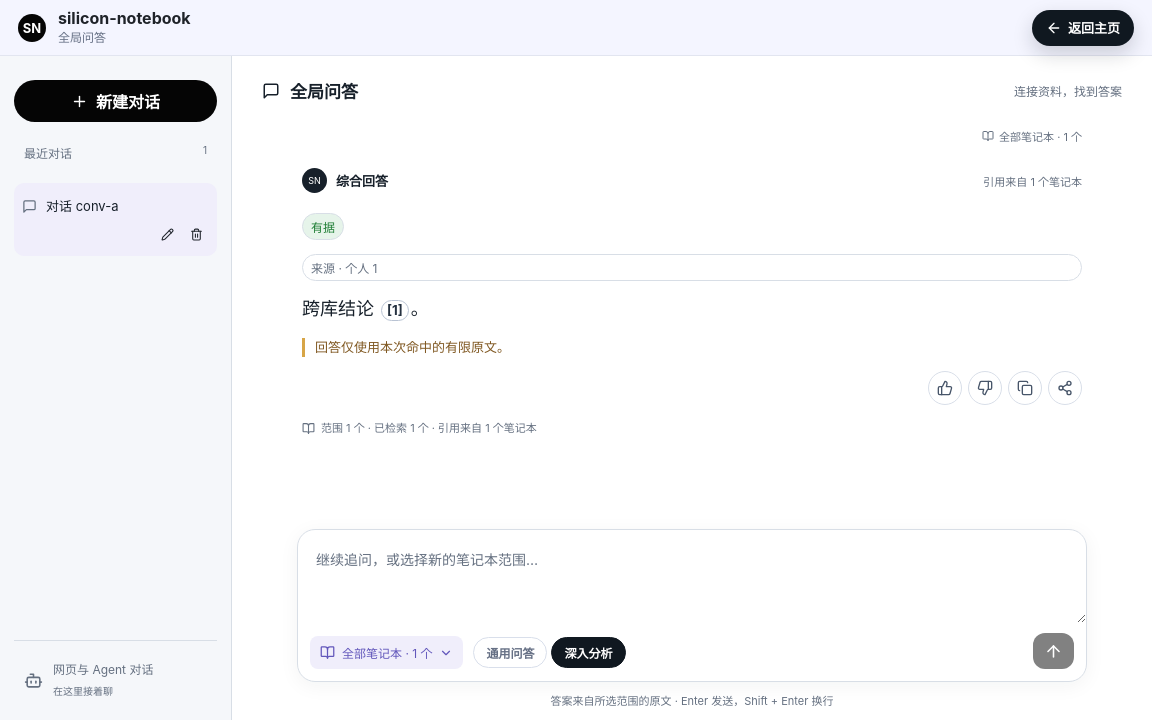
Test case: 超长会话已分享到更早一轮：链接此刻的确数与「更新到这一条」之后的确数分开说
(page scrolled)
What coordinates should you click on to do the following:
click the button named "分享到这条回答"
I would click on:
 (1065, 388)
Its box is x1=1048 y1=371 x2=1082 y2=405.
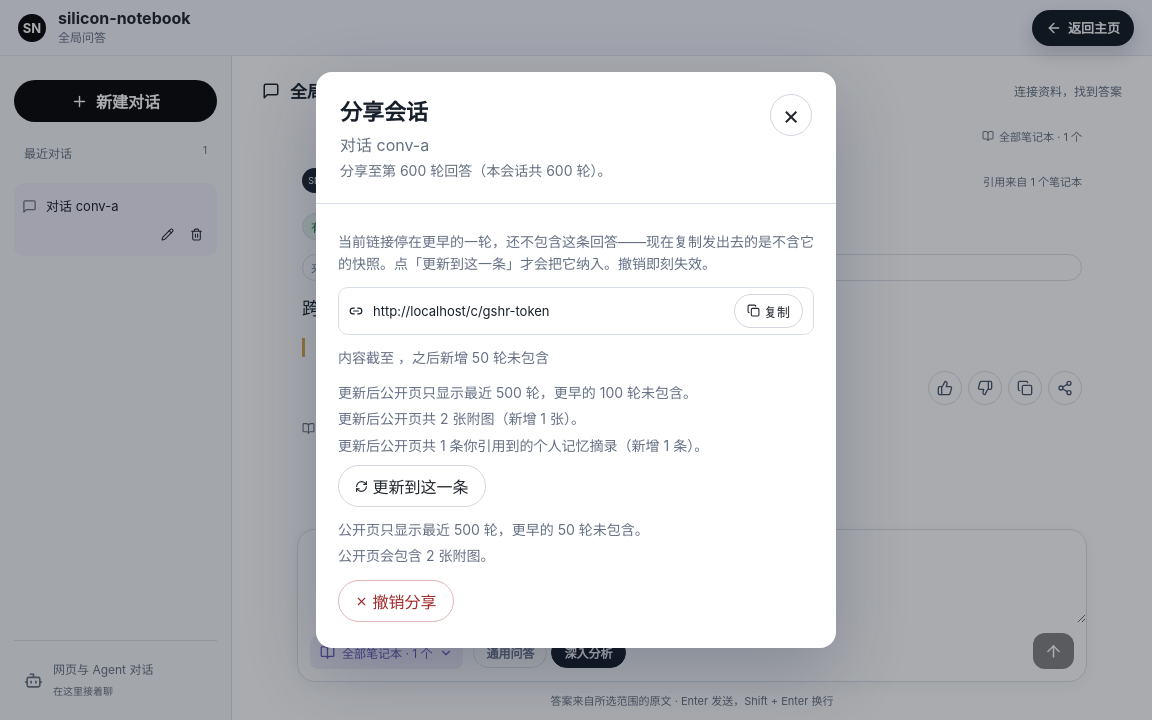
Check: the heading "分享会话" is shown, box x1=340 y1=99 x2=428 y2=125
Check: the field named "分享链接" is shown, box x1=371 y1=302 x2=726 y2=320
Check: the text "还不包含这条回答" is shown, box x1=338 y1=233 x2=814 y2=272
What coordinates should you click on to do the following:
click the button "更新到这一条"
I would click on:
 (412, 486)
Its box is x1=338 y1=465 x2=486 y2=507.
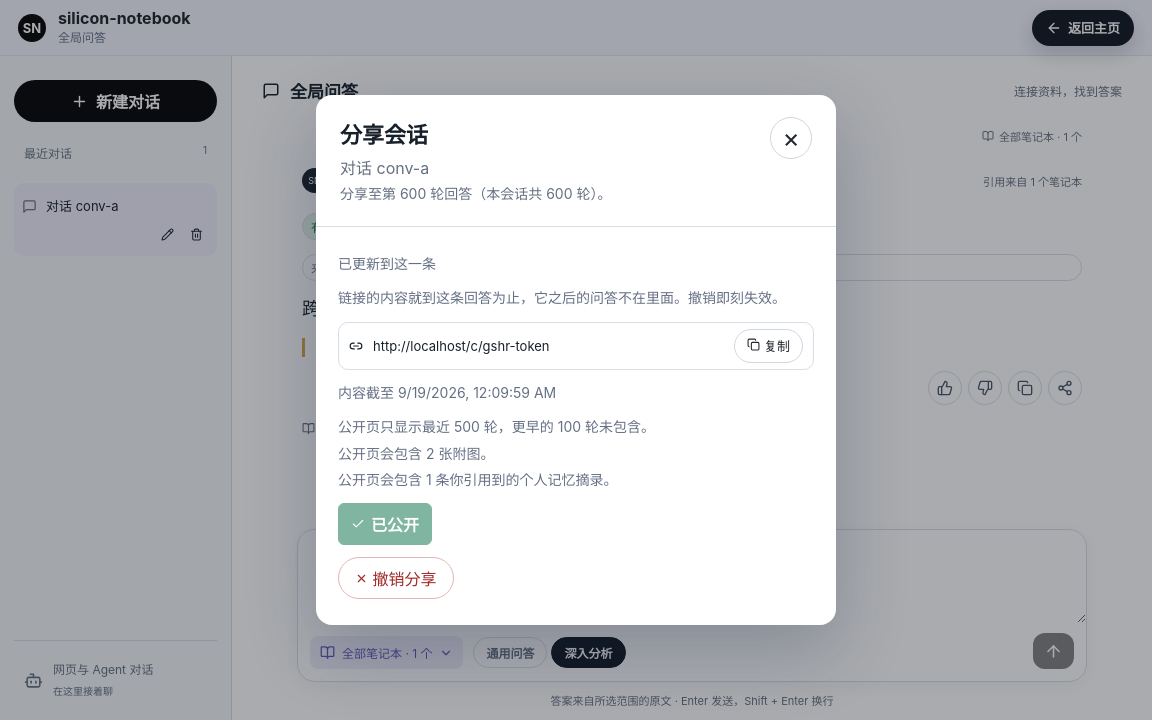
Check: the text "已更新到这一条" is shown, box x1=338 y1=255 x2=436 y2=272
Check: the text "公开页只显示最近 500 轮，更早的 100 轮未包含。" is shown, box x1=338 y1=418 x2=655 y2=435
Check: the text "之后新增" is gone
